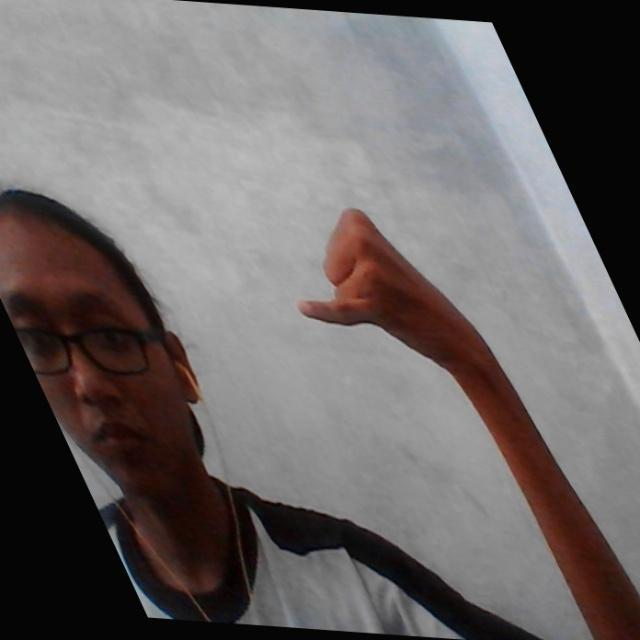J: (282, 199, 478, 369)
